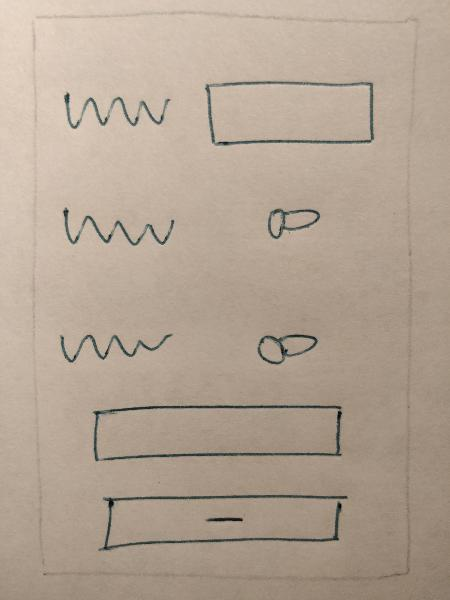button: (94, 485, 352, 557)
switch: (247, 319, 332, 372), (245, 196, 332, 247)
text: (56, 196, 184, 261), (56, 84, 176, 140), (53, 324, 176, 368)
text_input: (85, 400, 354, 467), (198, 75, 385, 155)
